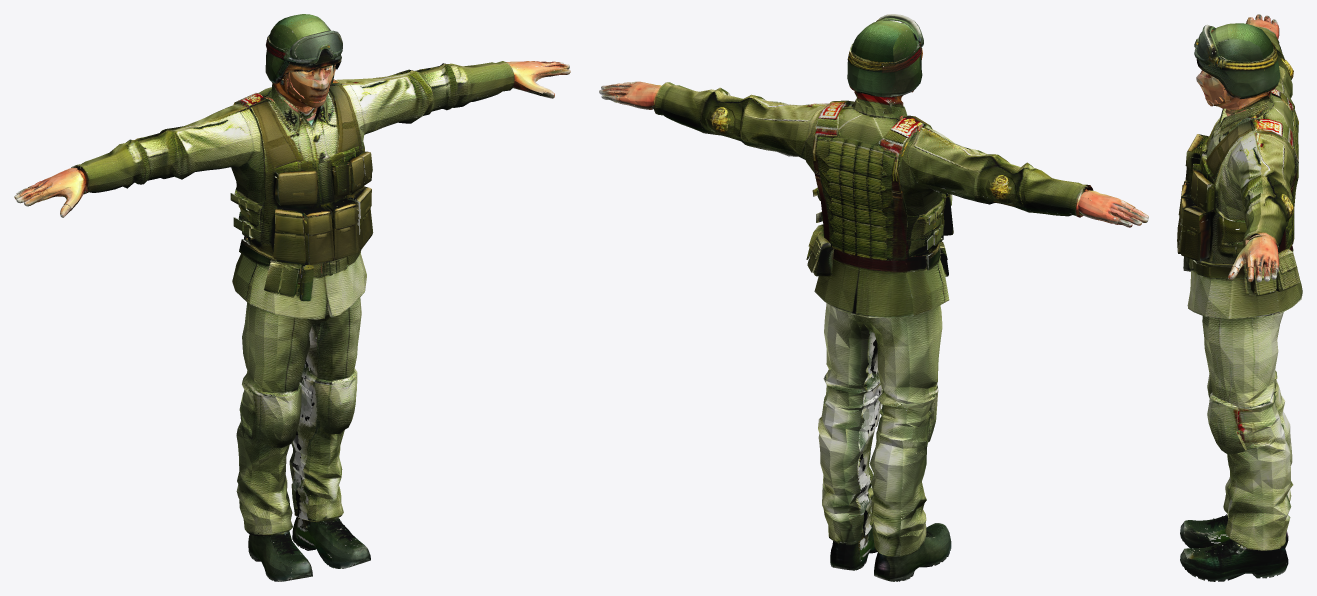
Rendered from textured_ours.glb.
3 views of the same model, side by side, from view 1: azimuth 30°, elevation 25°; view 2: azimuth 150°, elevation 25°; view 3: azimuth 270°, elevation 25° (orthographic).
Visible parts, largest first — view 1: Node; view 2: Node; view 3: Node.
Boxes of the visible parts, x1,y1,x2,y2 form: Node: (14,14,570,581); Node: (599,14,1148,581); Node: (1177,14,1302,581).
Bounding box in the file's own units: 2 × 1.87 × 0.4.
Materials: 1 (1 with a texture image).
